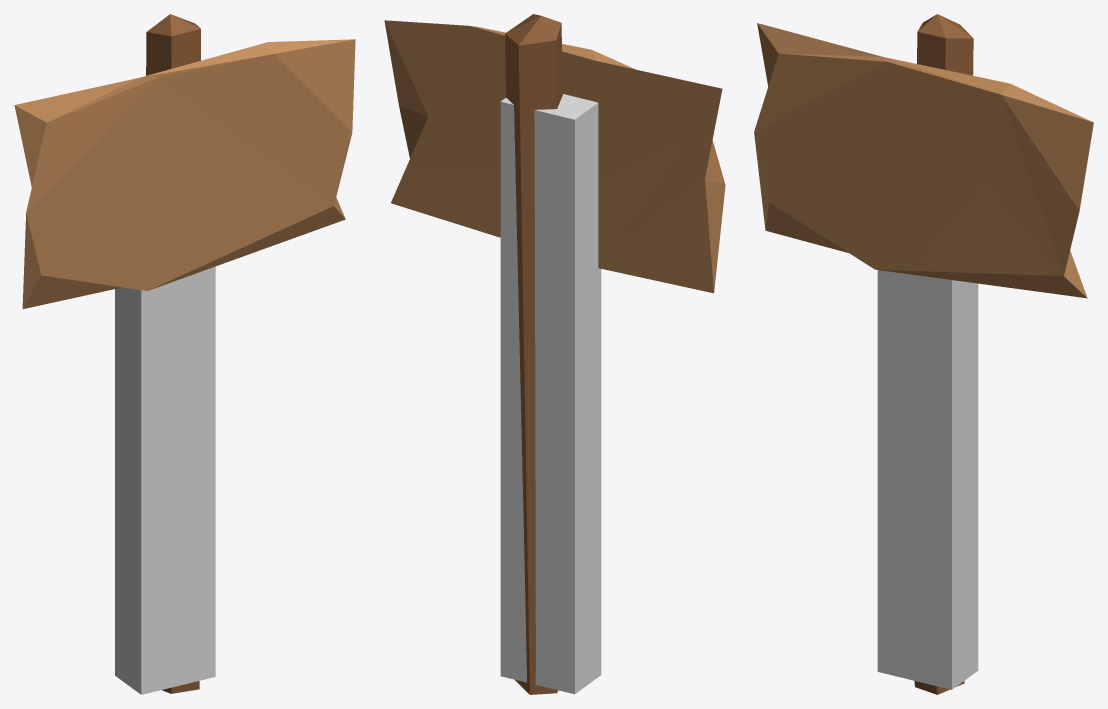
Rendered from pointer_1.glb.
3 renders of one model, left to right at view 1: azimuth 30°, elevation 25°; view 2: azimuth 150°, elevation 25°; view 3: azimuth 330°, elevation 25°, orthographic.
Visible parts, largest first — view 1: Pointer_01, Cube.009; view 2: Pointer_01, Cube.009; view 3: Pointer_01, Cube.009.
Part boxes in pixels (x1=…): Pointer_01: x1=14, y1=14, x2=355, y2=693; Cube.009: x1=115, y1=266, x2=215, y2=694; Pointer_01: x1=384, y1=14, x2=725, y2=694; Cube.009: x1=500, y1=94, x2=601, y2=694; Pointer_01: x1=754, y1=14, x2=1093, y2=694; Cube.009: x1=877, y1=270, x2=978, y2=689.
Bounding box in the file's own units: 0.9024 × 1.7 × 0.1626.
Materials: 1 (1 with a texture image).
